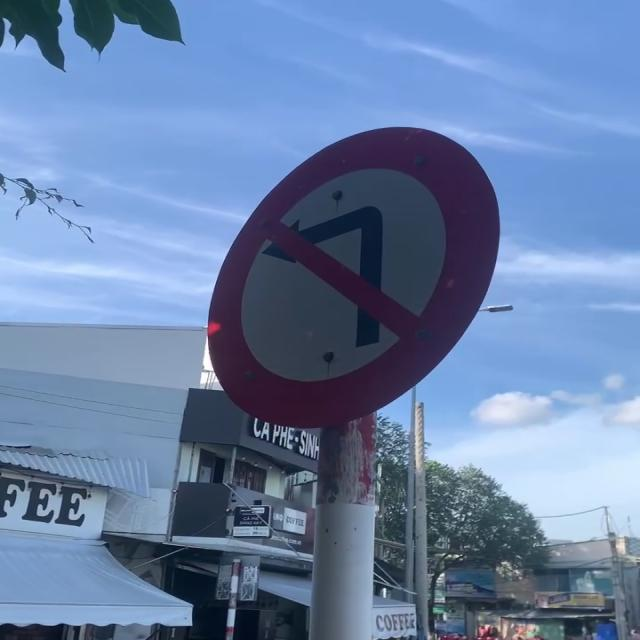Cam_Re_Trai: (205, 122, 501, 426)
